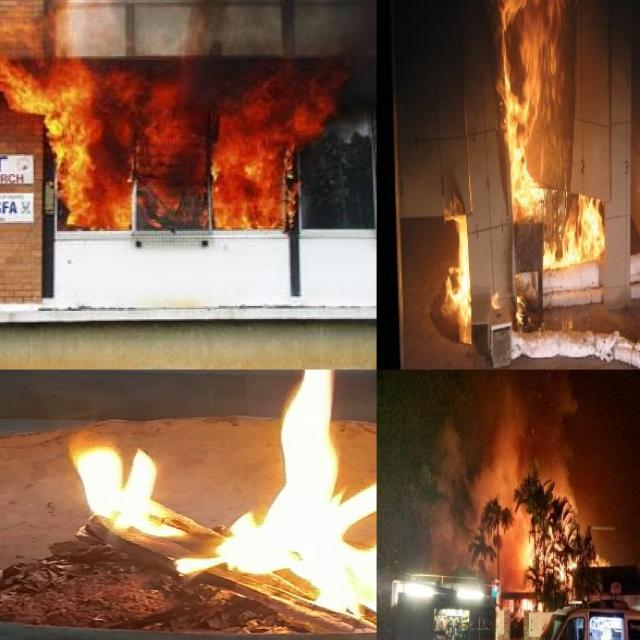fire: (58, 370, 376, 634), (0, 0, 346, 230), (491, 0, 605, 269), (442, 193, 472, 345), (552, 535, 576, 587), (514, 515, 532, 569)
smoke: (430, 370, 579, 516), (170, 0, 243, 118)
